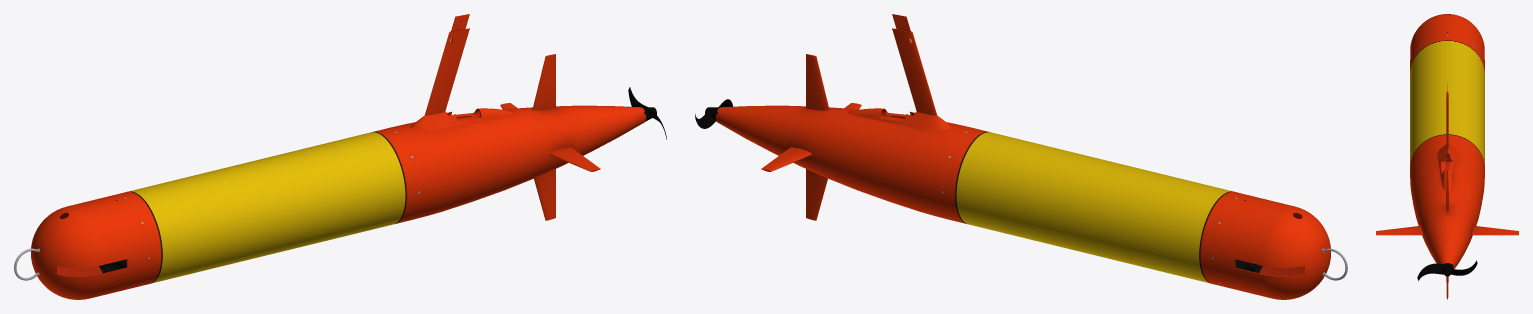
File: tethys.dae
The picture shows the model from 3 angles, left to right: view 1: azimuth 30°, elevation 25°; view 2: azimuth 150°, elevation 25°; view 3: azimuth 270°, elevation 25°; orthographic projection. The views are drawn at different scales.
Visible parts, largest first — view 1: Body, Fins_vertical, Fins_Horizontal; view 2: Body, Fins_vertical, Fins_Horizontal; view 3: Body, Fins_Horizontal, Prop, Fins_vertical.
Part boxes in pixels (box(x1,y1,x2,y2)): Body: box(14, 14, 646, 299); Fins_vertical: box(532, 54, 555, 220); Fins_Horizontal: box(500, 103, 600, 171); Body: box(715, 14, 1347, 299); Fins_vertical: box(806, 54, 829, 220); Fins_Horizontal: box(761, 103, 861, 171); Body: box(1410, 14, 1484, 269); Fins_Horizontal: box(1376, 226, 1518, 235); Prop: box(1417, 260, 1477, 280); Fins_vertical: box(1445, 166, 1449, 299).
Bounding box in the file's own units: 2377 × 582 × 801.
1 material, 1 textured.
